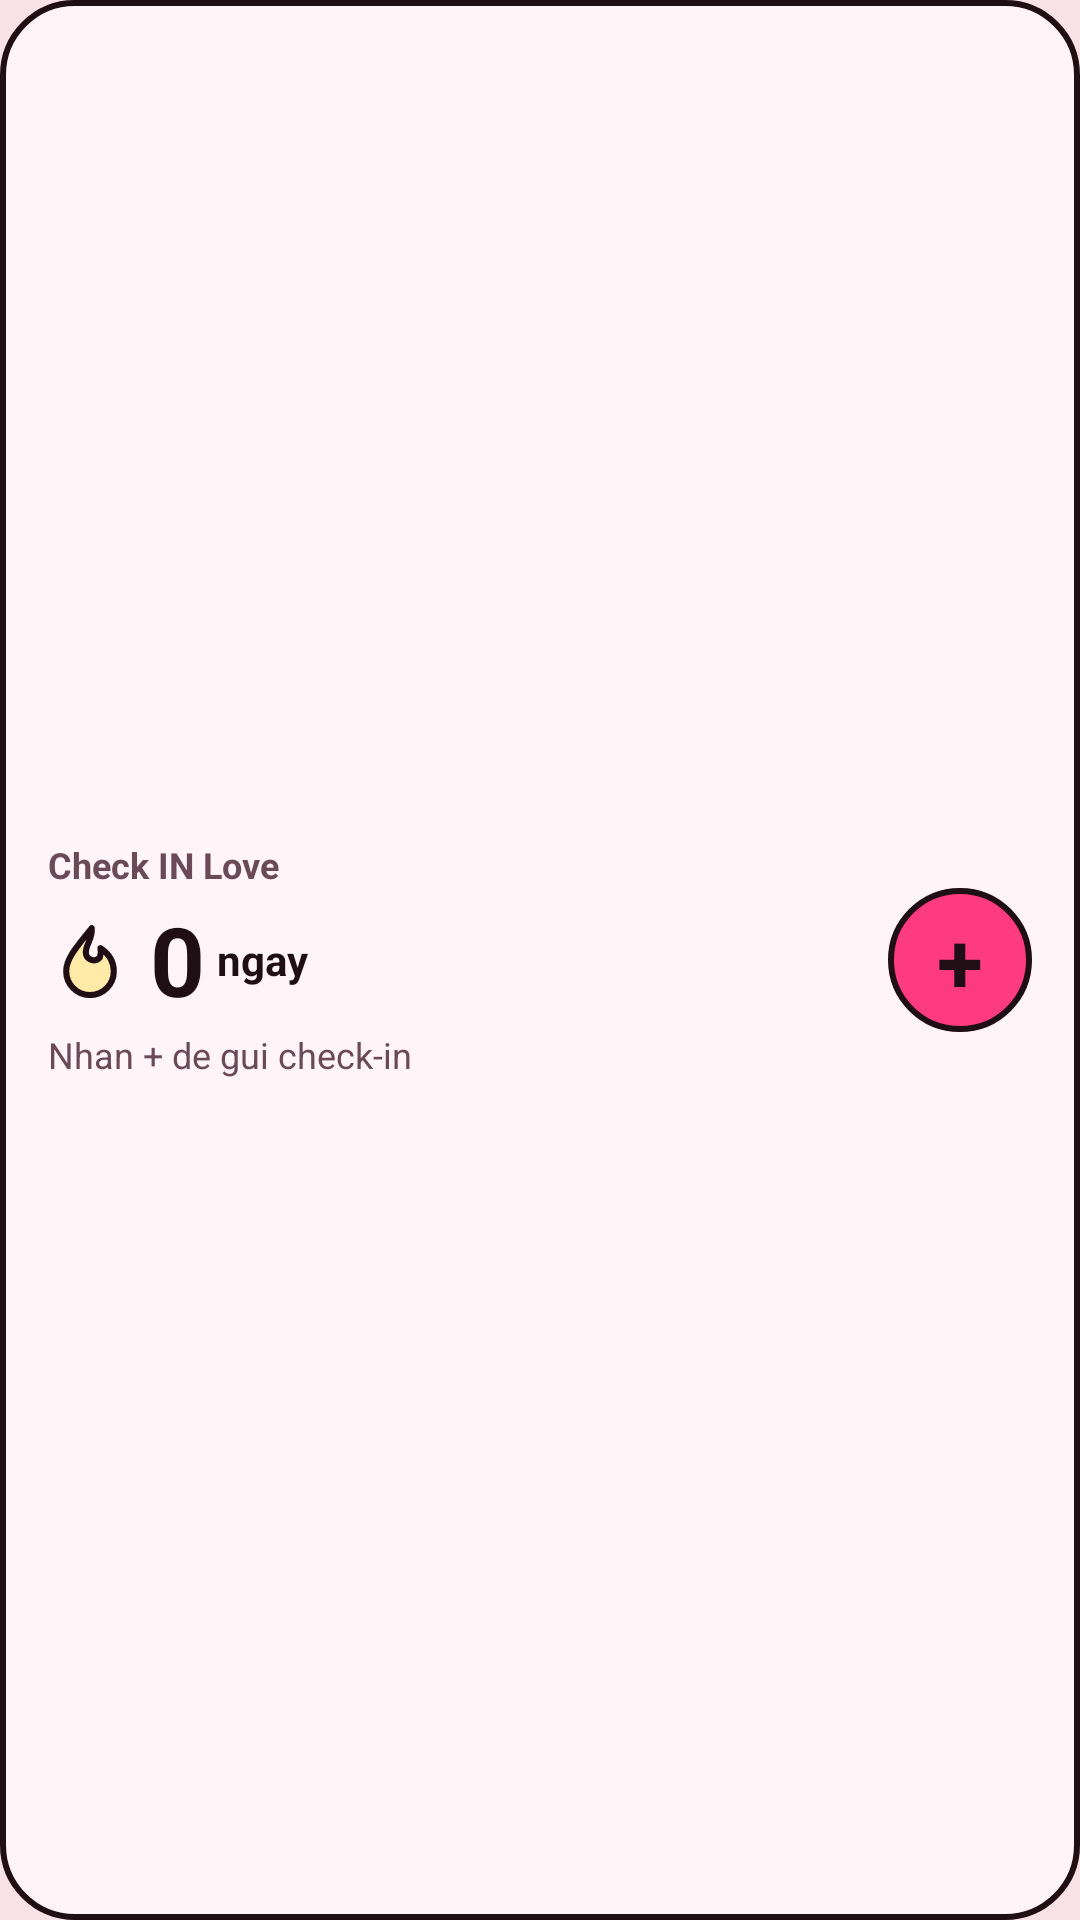

Where to tap for icons on this 1080x1920 app screen, as (x,y):
widget flame: (90,961)
